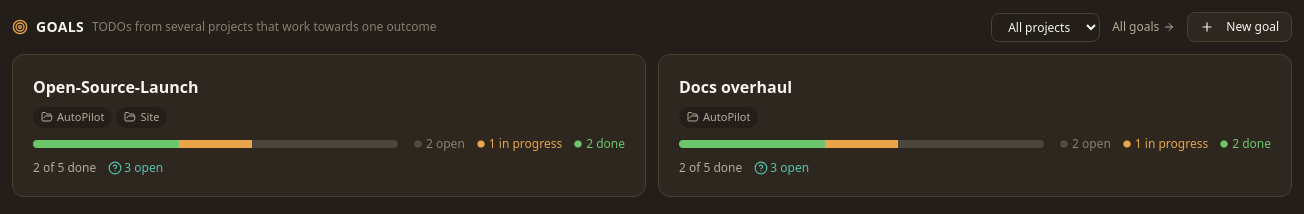
GoalsSection › project filter › shows all projects by default, asks the server for one project and remembers the choice
Expected: the button "Docs overhaul" is shown, [658,54,1292,196]
Select "Site" in the dropdown named "Project" at [1046, 27], box [991,12,1100,42]
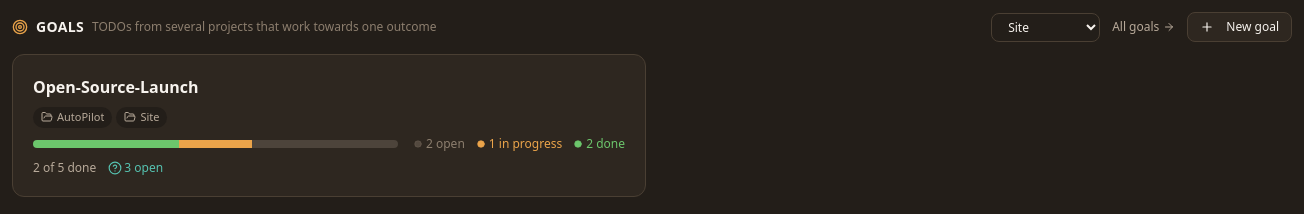
Expected: the button "Open-Source-Launch" is shown, [12,54,646,196]
Result: the button "Docs overhaul" is gone
